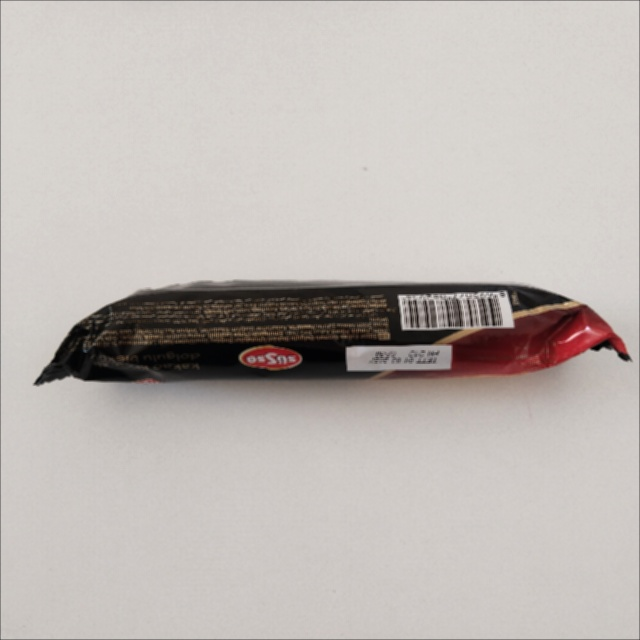susse_biskuvi: (34, 280, 630, 383)
